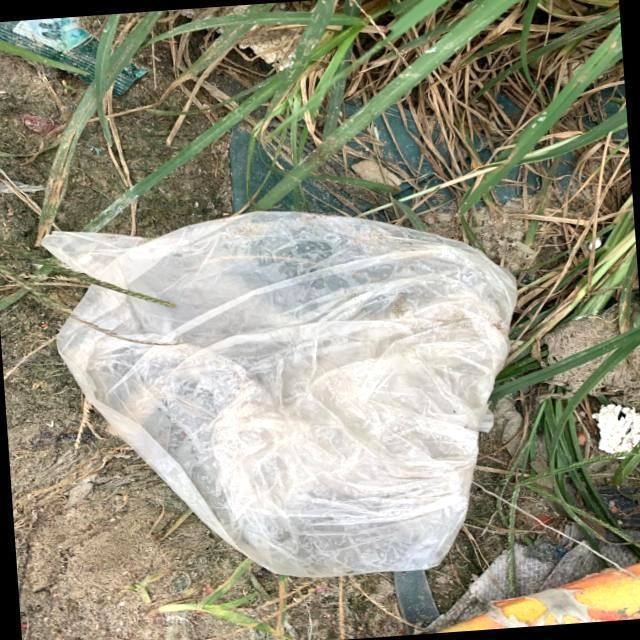polythene: (39, 197, 519, 591)
